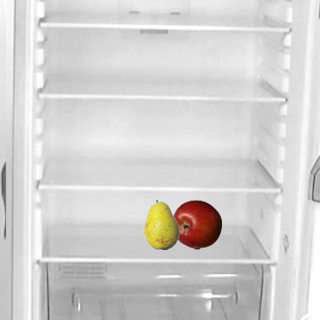Apple Braeburn: (171, 199, 221, 249)
Pear Monster: (136, 199, 186, 249)
